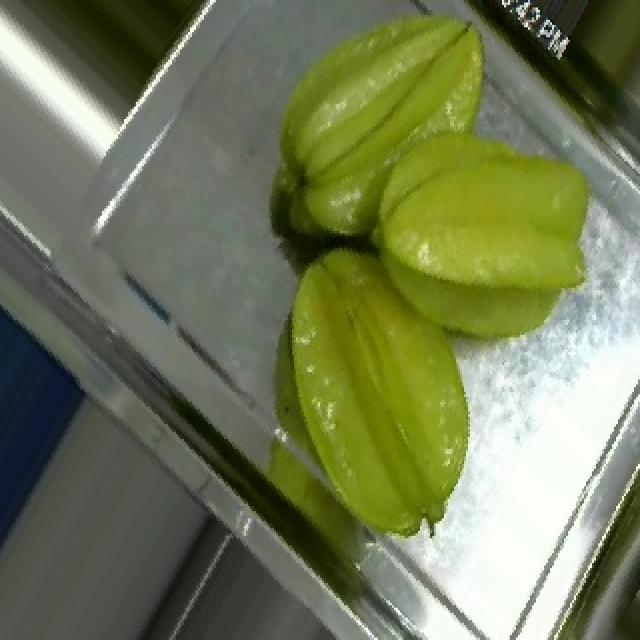fruit: (284, 25, 640, 392), (214, 204, 544, 576), (242, 0, 534, 283), (0, 0, 250, 122)
